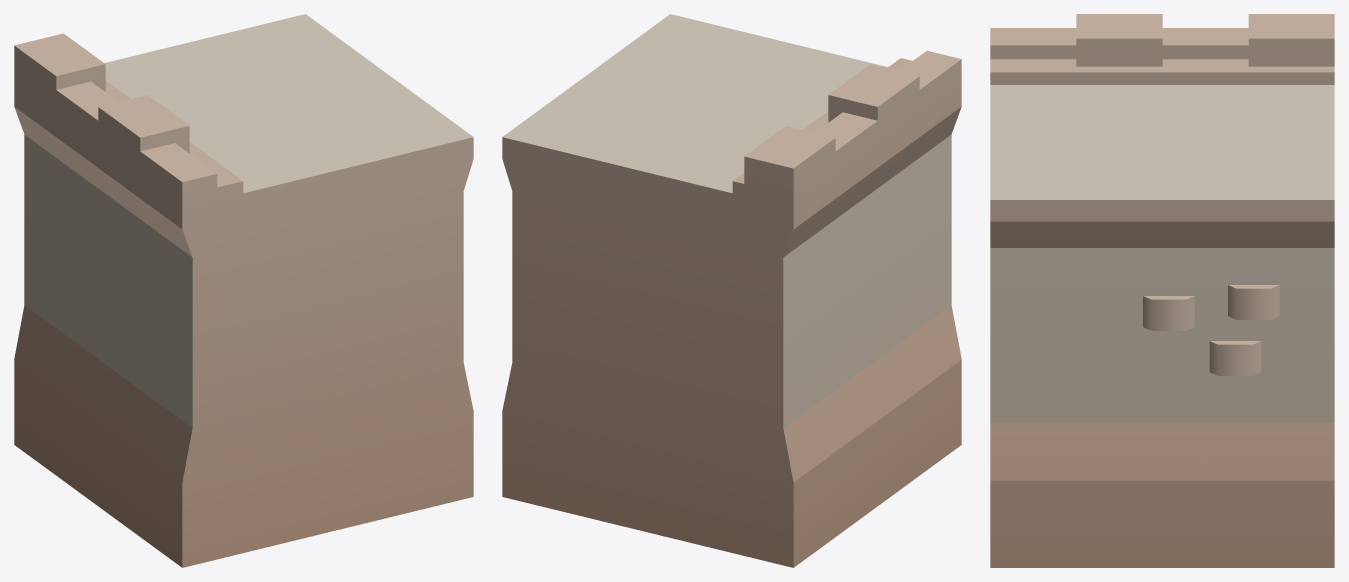
The model's file is wall-half.glb.
3 renders of one model, left to right at view 1: azimuth 30°, elevation 25°; view 2: azimuth 150°, elevation 25°; view 3: azimuth 270°, elevation 25°, orthographic. The views are drawn at different scales.
Visible parts, largest first — view 1: wall-half; view 2: wall-half; view 3: wall-half.
Boxes of the visible parts, x1,y1,x2,y2 form: wall-half: (14, 14, 473, 567); wall-half: (502, 14, 961, 567); wall-half: (990, 14, 1334, 567).
Bounding box in the file's own units: 1 × 1.31 × 1.
